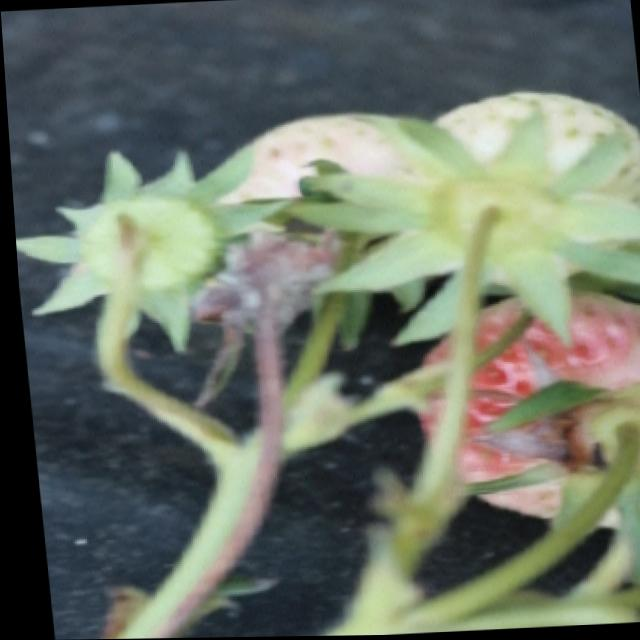Gray Mold: (187, 223, 342, 370)
